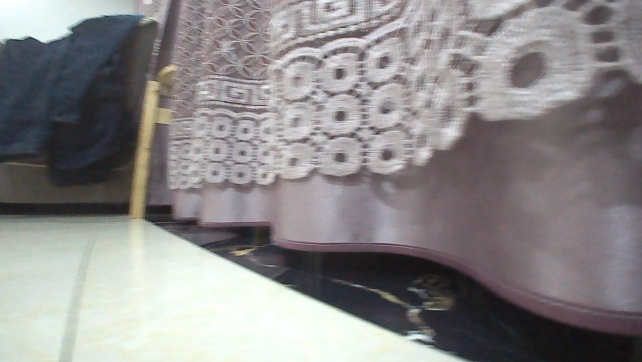sofa1: (0, 5, 155, 209)
